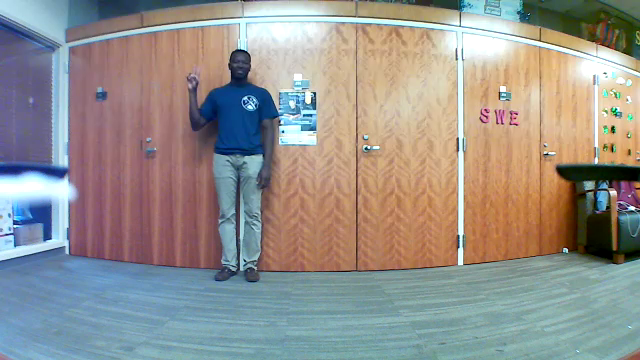peace: (180, 58, 205, 90)
